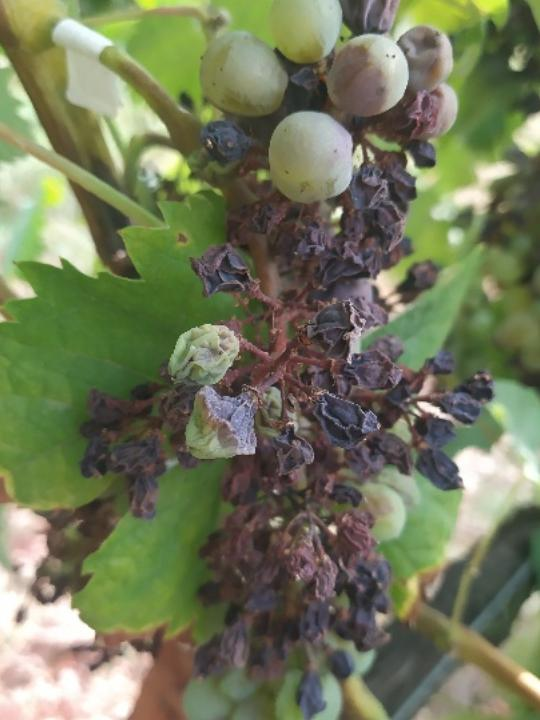grape: (68, 0, 502, 720)
